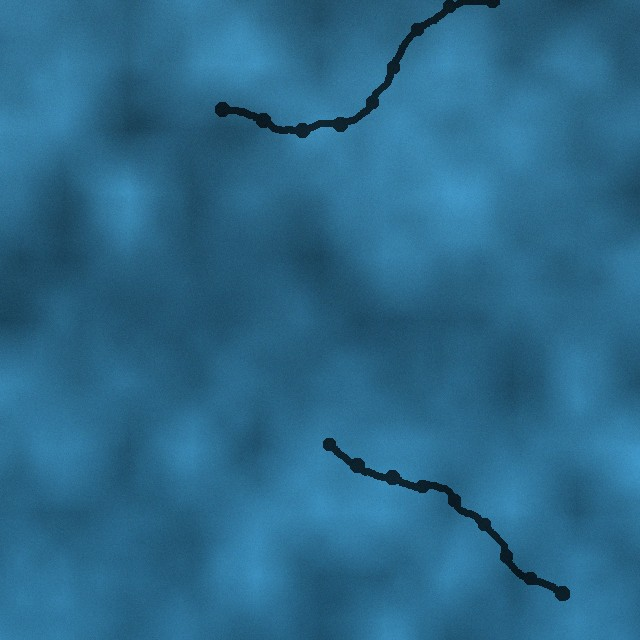crack: (322, 437, 574, 604), (215, 0, 505, 137)
